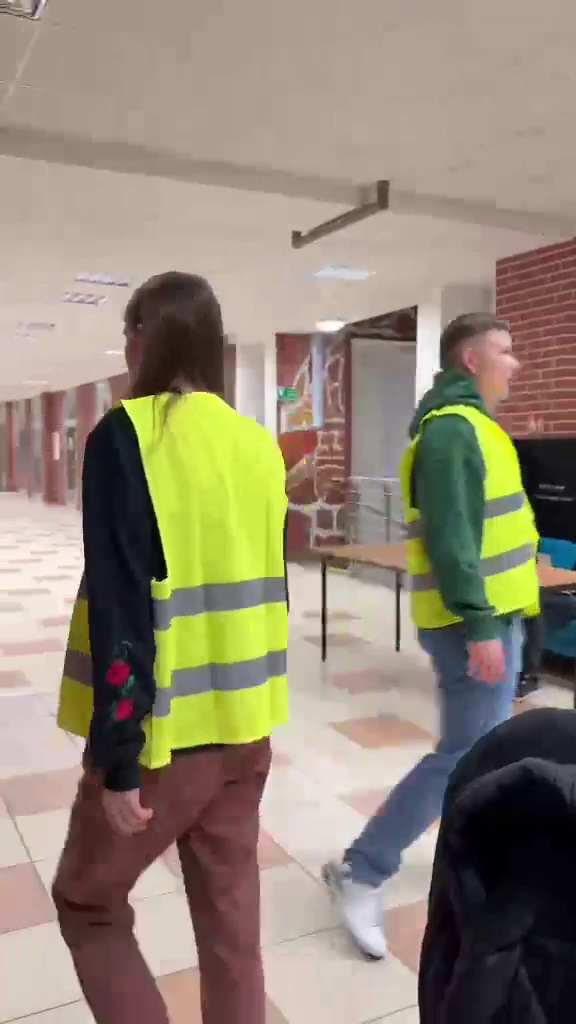vest: (49, 256, 288, 1001), (327, 297, 550, 933)
